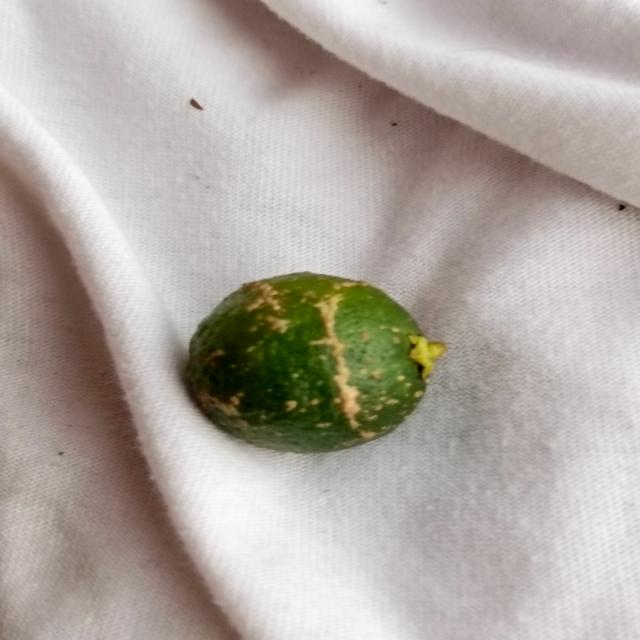scab: (183, 271, 422, 457)
